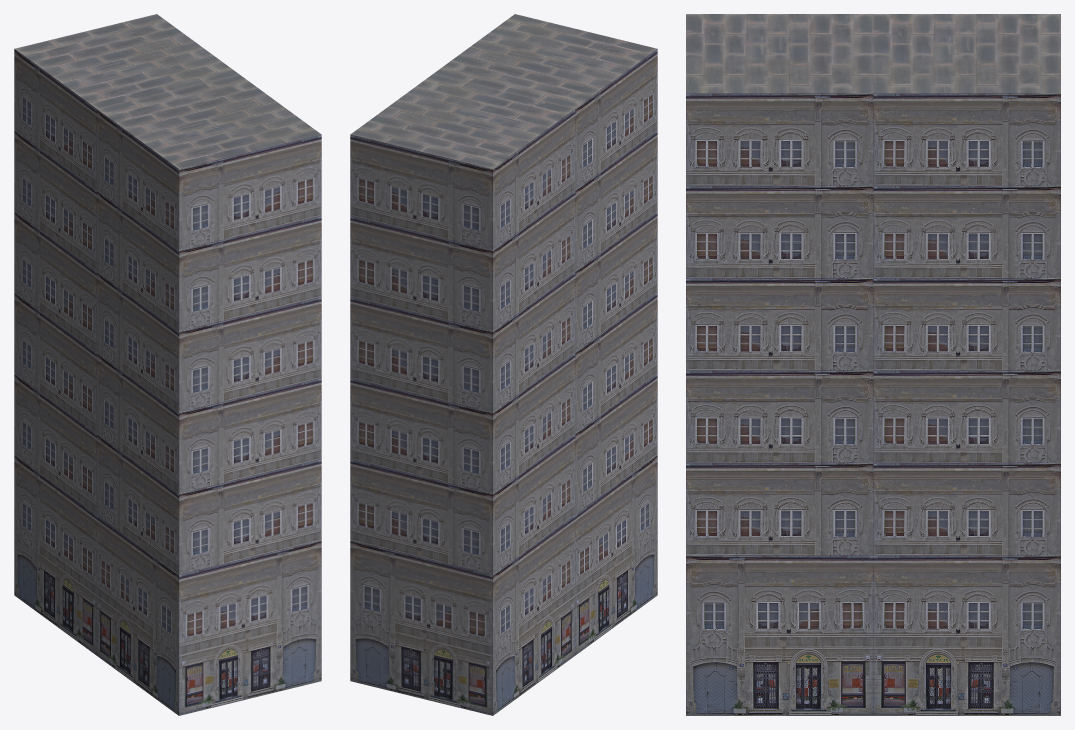
Rendered from Building063.fbx.
3 renders of one model, left to right at view 1: azimuth 30°, elevation 25°; view 2: azimuth 150°, elevation 25°; view 3: azimuth 270°, elevation 25°, orthographic. The views are drawn at different scales.
Parts seen in each view (by area): view 1: Building063; view 2: Building063; view 3: Building063.
Boxes of the visible parts, x1,y1,x2,y2 form: Building063: (14, 14, 321, 715); Building063: (350, 14, 657, 715); Building063: (686, 14, 1060, 715).
Size of the model in its own units: 8.79 by 32.24 by 17.59.
